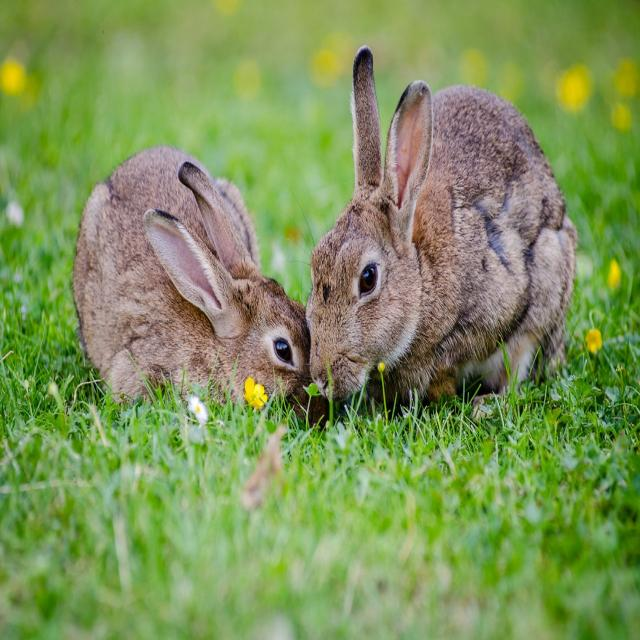rabbit: (293, 72, 597, 421), (85, 128, 311, 424)
